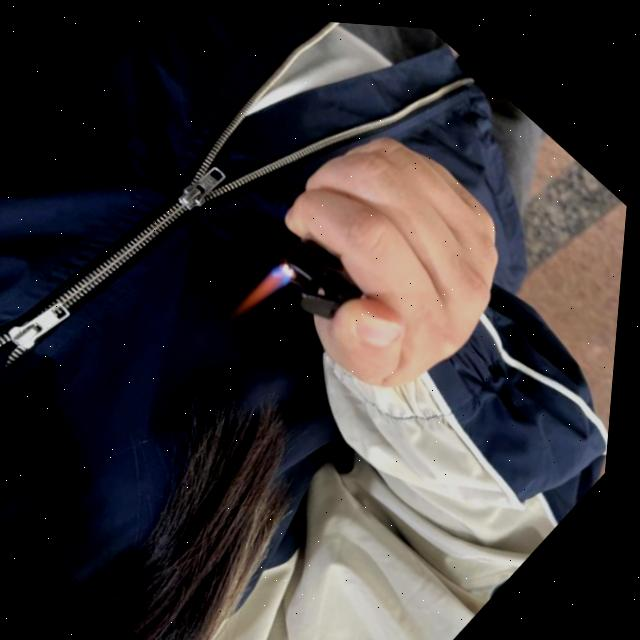Fire: (228, 248, 304, 333)
